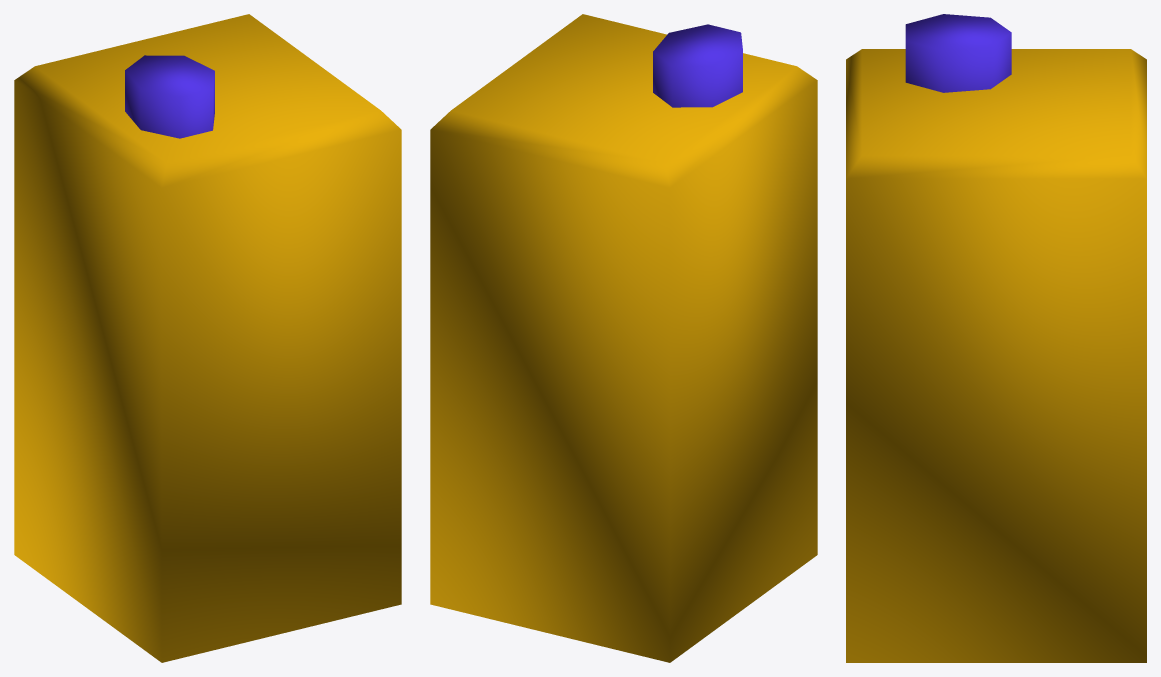
The model's file is succo_ananas_mini.fbx.
The picture shows the model from 3 angles, left to right: view 1: azimuth 30°, elevation 25°; view 2: azimuth 150°, elevation 25°; view 3: azimuth 270°, elevation 25°; orthographic projection.
Parts seen in each view (by area): view 1: ananas_mini; view 2: ananas_mini; view 3: ananas_mini.
Part boxes in pixels (<box>): ananas_mini: <box>14,14,401,662</box>; ananas_mini: <box>430,14,817,662</box>; ananas_mini: <box>846,14,1146,662</box>.
Bounding box in the file's own units: 66.34 × 141 × 70.7.
